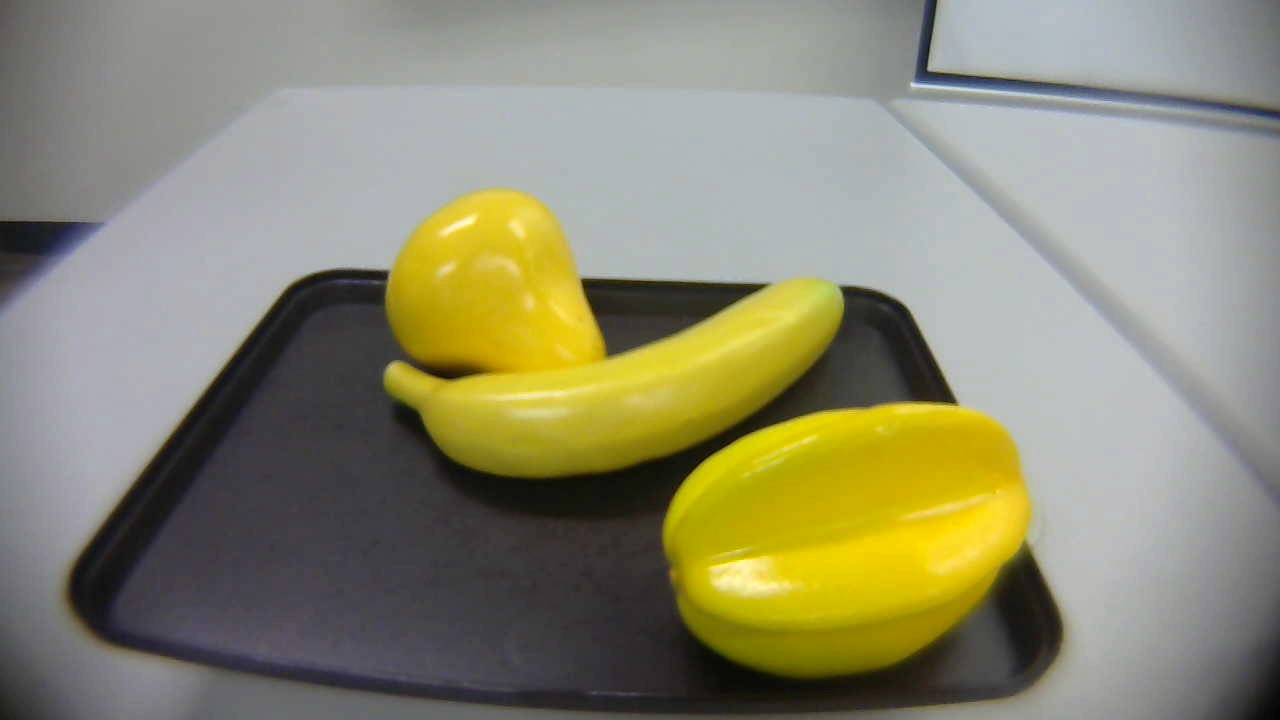banana: (355, 271, 866, 471)
star fruit: (653, 397, 1043, 679)
yellow pear: (378, 186, 625, 397)
